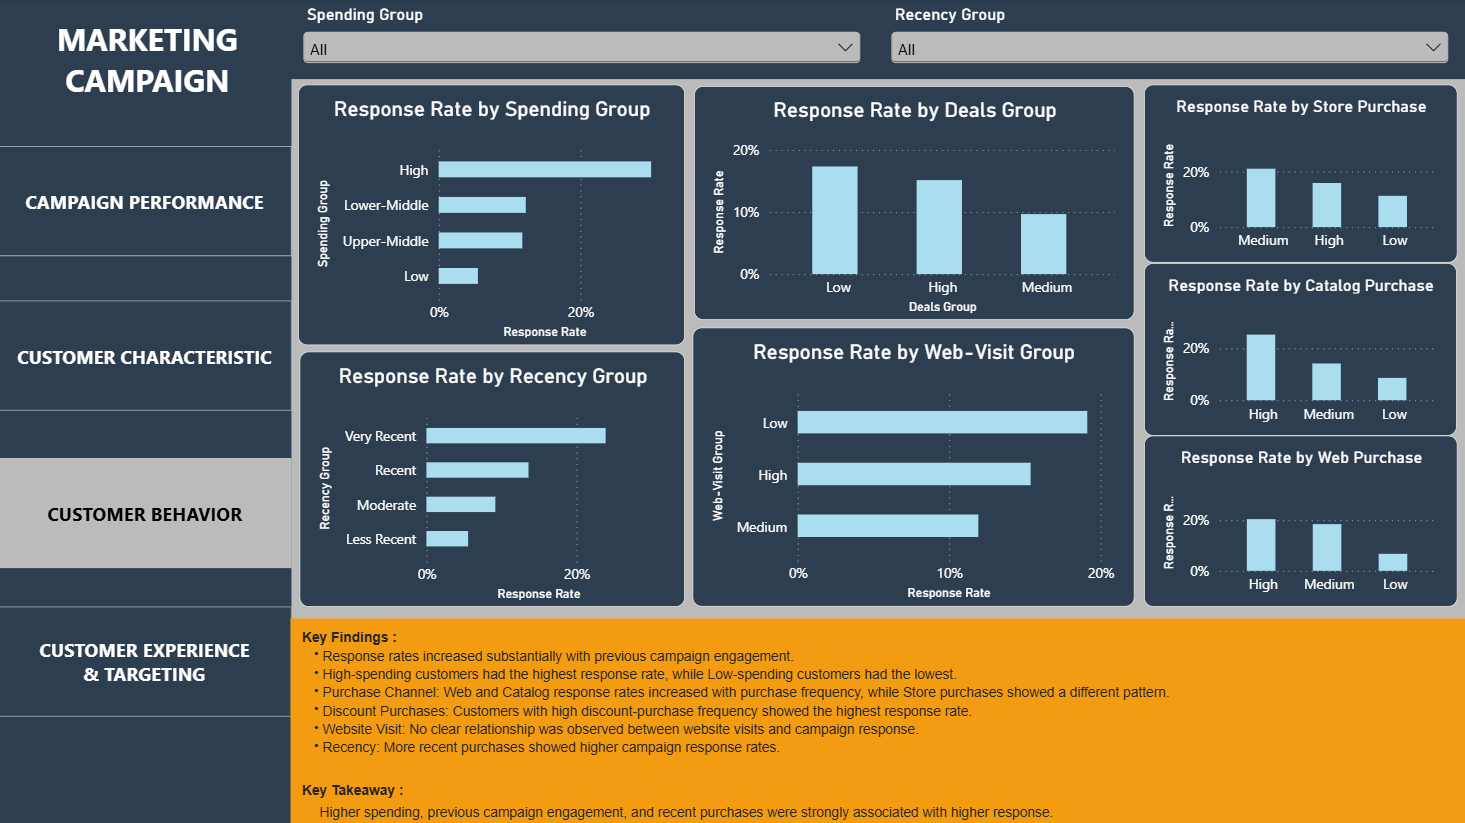

The dashboard page shown, as its layout file describes it:
{"tool":"powerbi","page":{"name":"Customer Behavior","canvas":[1280,720],"ordinal":2},"visuals":[{"type":"shape","box":[255,0,1025,70],"z":0},{"type":"shape","box":[0,0,256,720],"z":1000},{"type":"textbox","box":[0,16.7,260,96.7],"z":2000},{"type":"textbox","box":[0,128.3,256,96],"z":3000},{"type":"textbox","box":[0,263.3,256,96],"z":4000},{"type":"textbox","box":[0,400,256,96],"z":5000},{"type":"textbox","box":[0,530,256,96],"z":6000},{"type":"columnChart","title":"Response Rate by Deals Group","fields":{"Y":["marketing_campaign_cleaned.Response Rate"],"Category":["marketing_campaign_cleaned.Deal Groups"]},"box":[607.1,75.7,384.3,204.3],"z":7000},{"type":"slicer","fields":{"Values":["marketing_campaign_cleaned.Spending Group"]},"box":[256.7,5,500,60],"z":8000},{"type":"slicer","fields":{"Values":["marketing_campaign_cleaned.Recency Groups"]},"box":[768.3,5,500,60],"z":9000},{"type":"columnChart","title":"Response Rate by  Store Purchase","fields":{"Y":["marketing_campaign_cleaned.Response Rate"],"Category":["marketing_campaign_cleaned.Store Groups"]},"box":[999,74.5,273.3,155.6],"z":10000},{"type":"barChart","title":"Response Rate by Web-Visit Group","fields":{"Category":["marketing_campaign_cleaned.Web_Visit Groups"],"Y":["marketing_campaign_cleaned.Response Rate"]},"box":[606,287,385,243],"z":11000},{"type":"barChart","title":"Response Rate by Recency Group","fields":{"Y":["marketing_campaign_cleaned.Response Rate"],"Category":["marketing_campaign_cleaned.Recency Groups"]},"box":[262.8,307.2,336.1,222.8],"z":12000},{"type":"barChart","title":"Response Rate by Spending Group","fields":{"Y":["marketing_campaign_cleaned.Response Rate"],"Category":["marketing_campaign_cleaned.Spending Group"]},"box":[261.4,74.3,337.1,227.1],"z":13000},{"type":"columnChart","title":"Response Rate by Web Purchase","fields":{"Y":["marketing_campaign_cleaned.Response Rate"],"Category":["marketing_campaign_cleaned.Web Groups"]},"box":[999.3,380.7,273.6,149.3],"z":14000},{"type":"columnChart","title":"Response Rate by Catalog Purchase","fields":{"Y":["marketing_campaign_cleaned.Response Rate"],"Category":["marketing_campaign_cleaned.Catalog Groups"]},"box":[999.1,230,272.7,150.9],"z":15000},{"type":"textbox","box":[255,540,1025,180],"z":16000},{"type":"actionButton","box":[0,127.7,255.3,95.4],"z":17000},{"type":"actionButton","box":[0,262.7,255.3,95.4],"z":18000},{"type":"actionButton","box":[0,529.7,255.3,95.4],"z":19000}]}

Visuals, with their boxes in screenshot pixels (x1, y1, x2, y2), scaled from the page's 1280x720 canvas onto the 1465x823 screenshot:
shape: [292, 0, 1464, 80]
shape: [0, 0, 293, 822]
textbox: [0, 19, 298, 130]
textbox: [0, 147, 293, 256]
textbox: [0, 301, 293, 411]
textbox: [0, 457, 293, 567]
textbox: [0, 606, 293, 716]
"Response Rate by Deals Group" columnChart: [695, 87, 1135, 320]
slicer - marketing_campaign_cleaned.Spending Group: [294, 6, 866, 74]
slicer - marketing_campaign_cleaned.Recency Groups: [879, 6, 1452, 74]
"Response Rate by  Store Purchase" columnChart: [1143, 85, 1456, 263]
"Response Rate by Web-Visit Group" barChart: [694, 328, 1134, 606]
"Response Rate by Recency Group" barChart: [301, 351, 685, 606]
"Response Rate by Spending Group" barChart: [299, 85, 685, 345]
"Response Rate by Web Purchase" columnChart: [1144, 435, 1457, 606]
"Response Rate by Catalog Purchase" columnChart: [1144, 263, 1456, 435]
textbox: [292, 617, 1464, 822]
actionButton: [0, 146, 292, 255]
actionButton: [0, 300, 292, 409]
actionButton: [0, 605, 292, 715]
